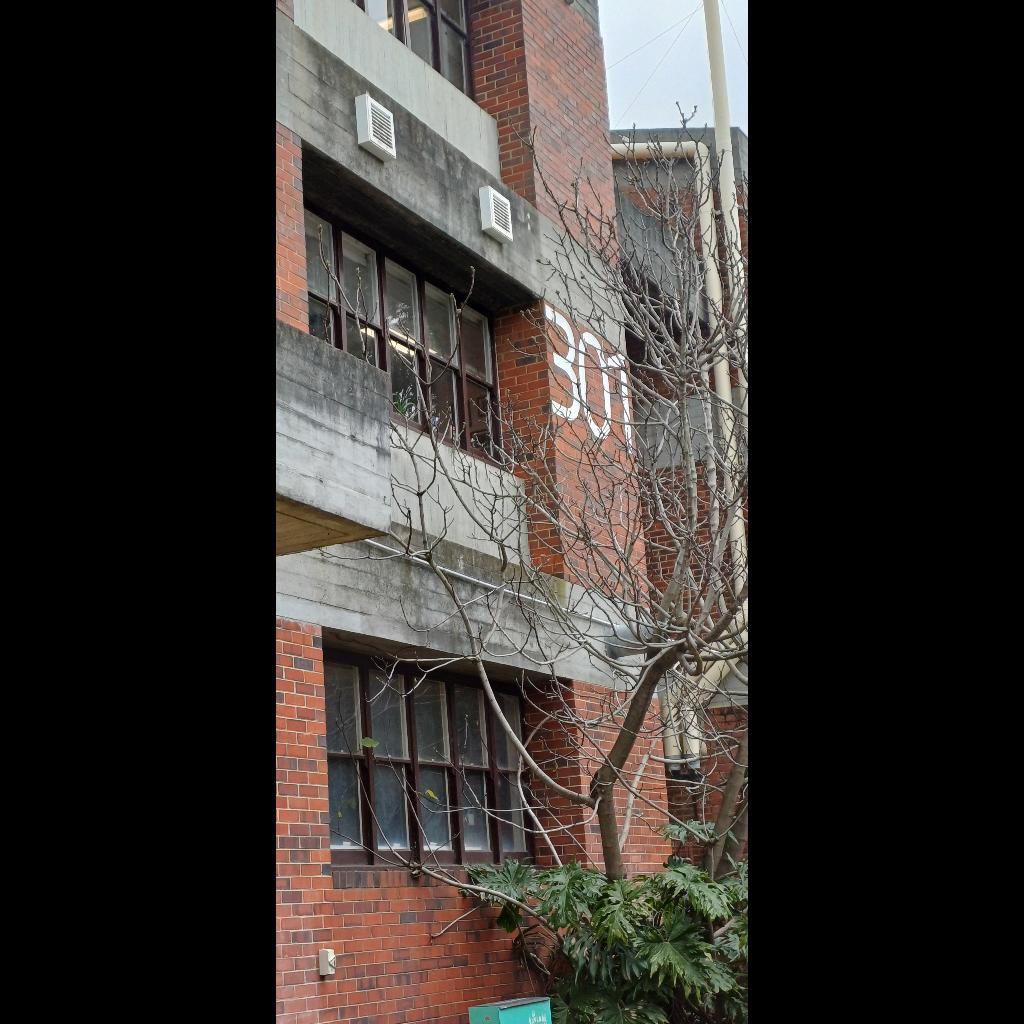BuildingCodes: (540, 301, 640, 473)
